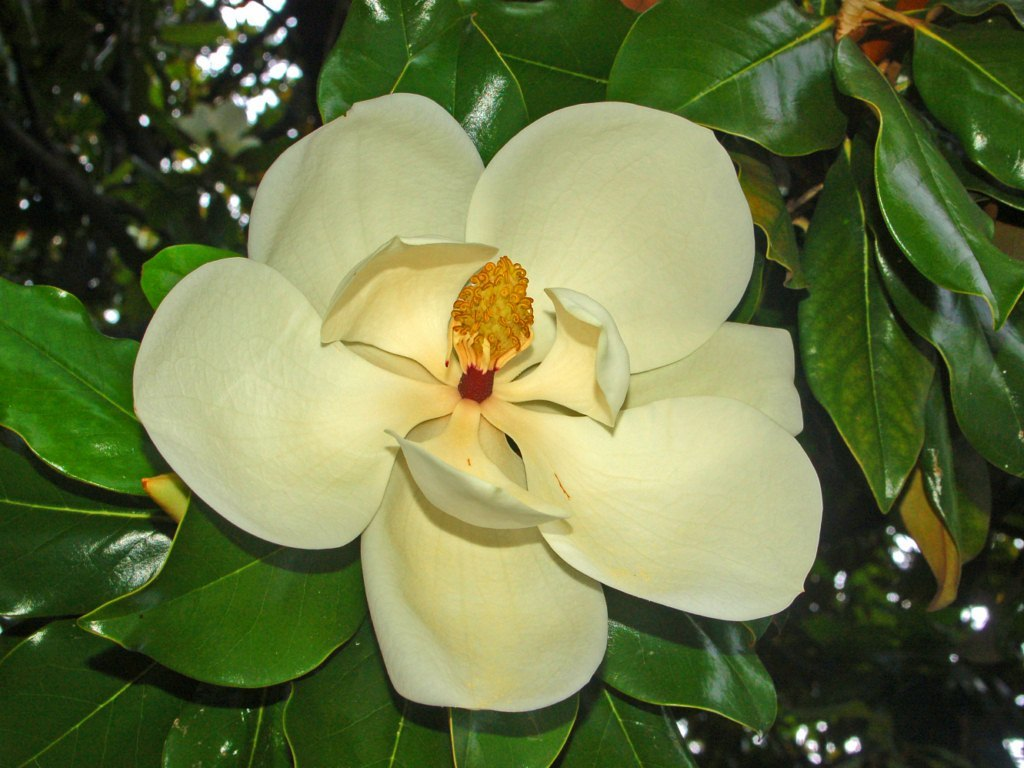Tree: (0, 0, 1021, 764)
